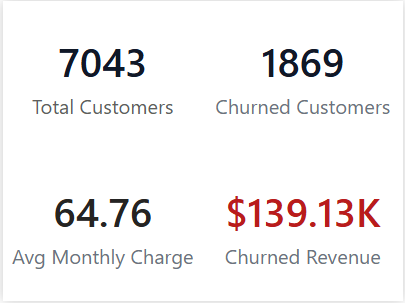

The page's visual inventory and layout, read from the dashboard file:
{"tool":"powerbi","page":{"name":"Tooltip – Churn Summary","canvas":[320,240],"ordinal":1},"visuals":[{"type":"card","fields":{"Values":["customer_churn.Total Customers"]},"box":[0,0,160,120],"z":0},{"type":"card","fields":{"Values":["customer_churn.Churned Customers"]},"box":[160,0,160,120],"z":1000},{"type":"card","fields":{"Values":["customer_churn.Avg Monthly Charge"]},"box":[0,120,160,120],"z":2000},{"type":"card","fields":{"Values":["customer_churn.Churned Revenue"]},"box":[160,120,160,120],"z":2001}]}

Visuals, with their boxes in screenshot pixels (x1, y1, x2, y2), scaled from the page's 320x240 canvas onto the 405x303 screenshot:
card - customer_churn.Total Customers: box(0, 0, 202, 152)
card - customer_churn.Churned Customers: box(202, 0, 404, 152)
card - customer_churn.Avg Monthly Charge: box(0, 152, 202, 302)
card - customer_churn.Churned Revenue: box(202, 152, 404, 302)
